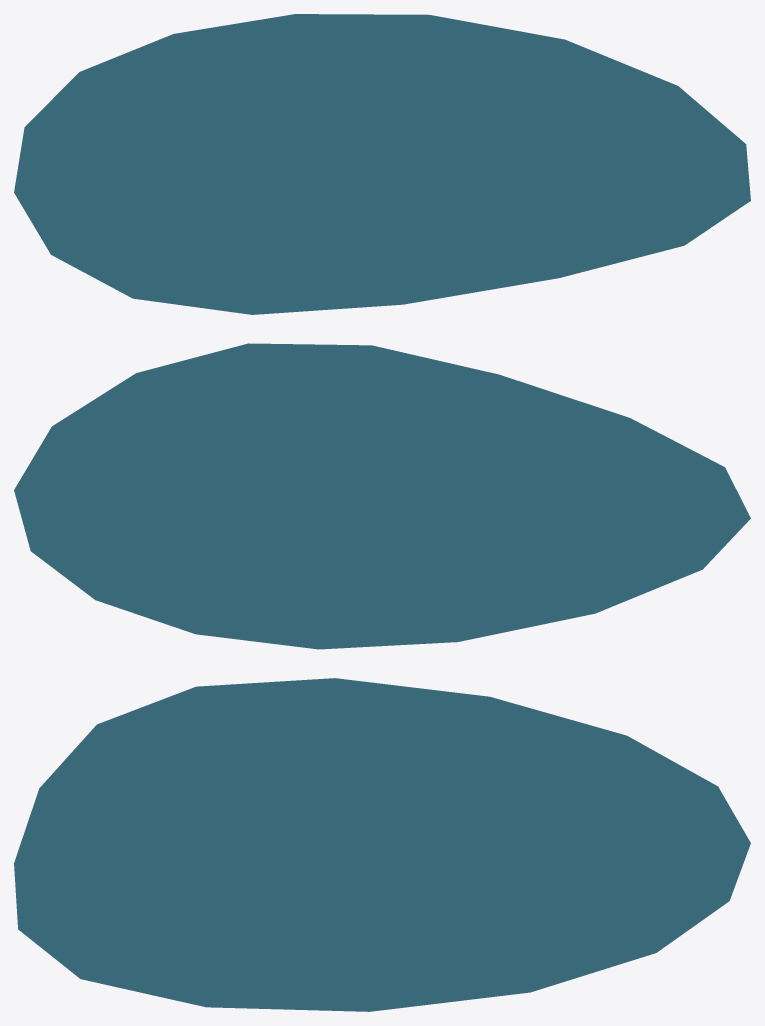
Rendered from itch_assetquest_pond_pond_1.glb.
The picture shows the model from 3 angles, top to bottom: view 1: azimuth 30°, elevation 25°; view 2: azimuth 150°, elevation 25°; view 3: azimuth 270°, elevation 25°; orthographic projection. The views are drawn at different scales.
Visible parts, largest first — view 1: Pond_1; view 2: Pond_1; view 3: Pond_1.
Boxes of the visible parts, x1,y1,x2,y2 form: Pond_1: [14, 14, 750, 314]; Pond_1: [14, 343, 750, 649]; Pond_1: [14, 678, 750, 1011].
Bounding box in the file's own units: 1.52 × 3.15e-16 × 1.42.
